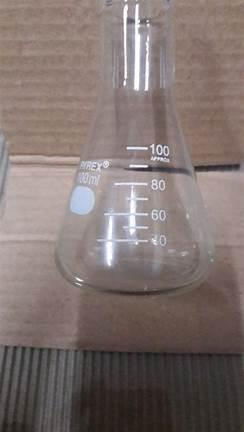Titrarion: (61, 15, 218, 301)
